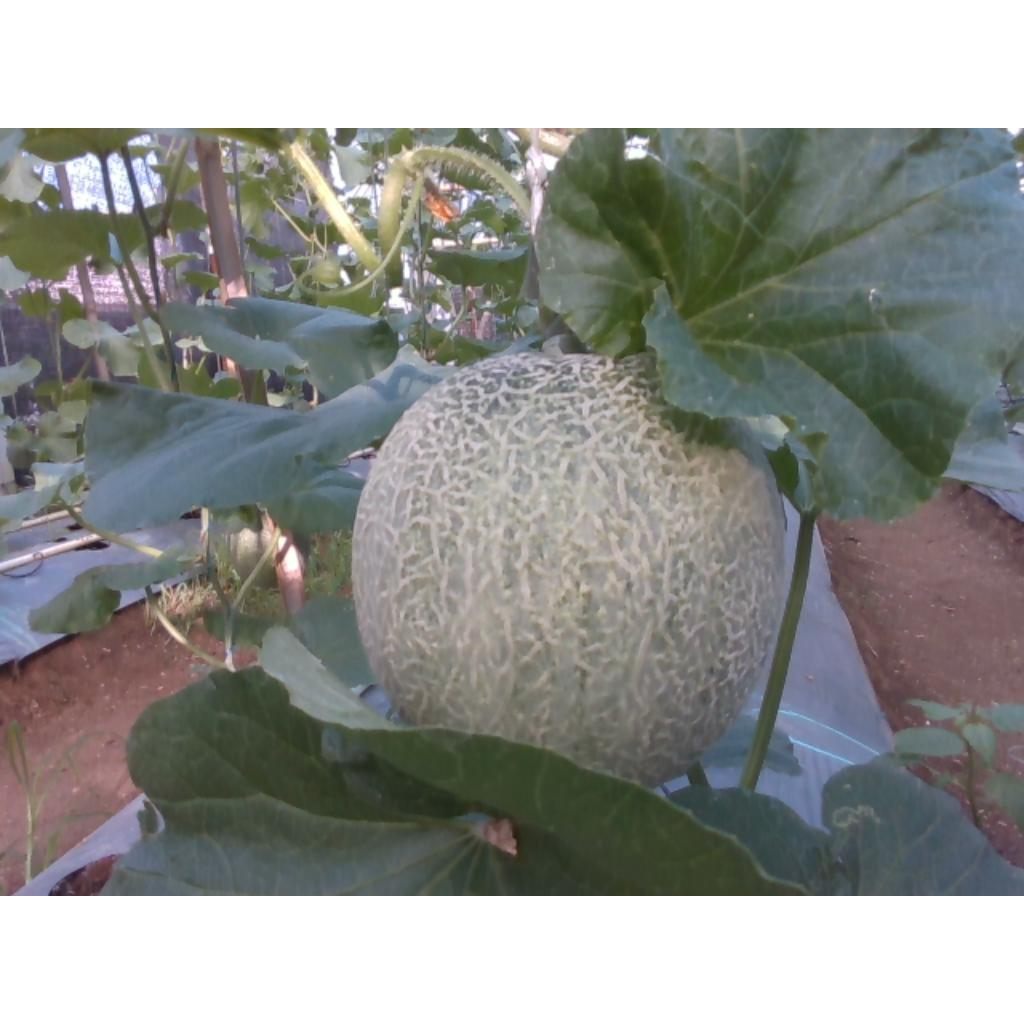melon: (354, 354, 786, 786)
